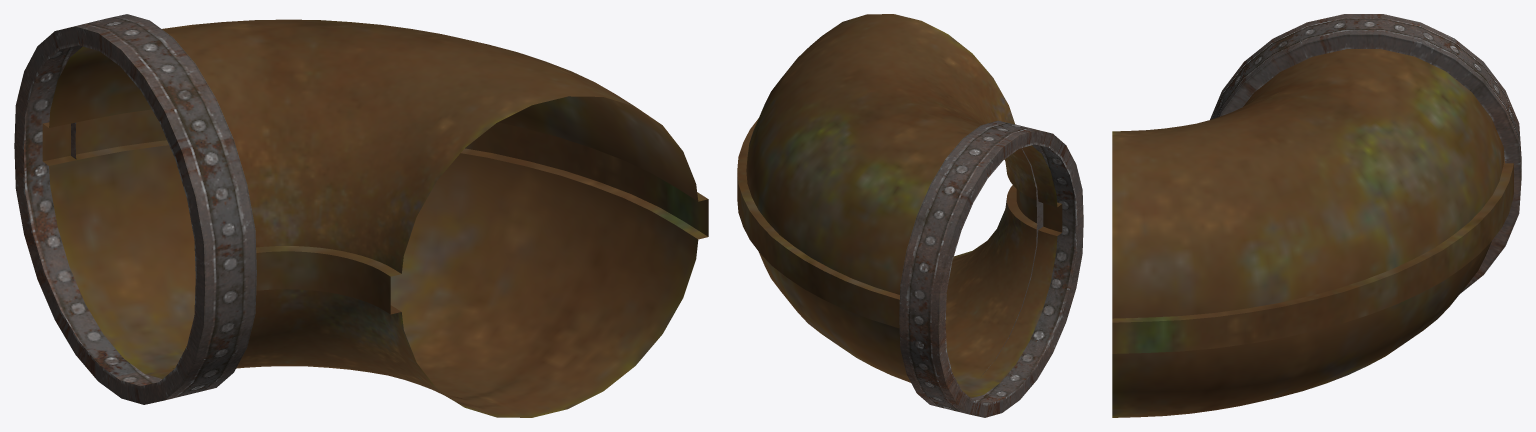
File: pipe_corner_02.fbx
3 views of the same model, side by side, from view 1: azimuth 30°, elevation 25°; view 2: azimuth 150°, elevation 25°; view 3: azimuth 270°, elevation 25° (orthographic). The views are drawn at different scales.
Parts seen in each view (by area): view 1: pipe_corner_02; view 2: pipe_corner_02; view 3: pipe_corner_02.
Part boxes in pixels (bbox=[...]): pipe_corner_02: bbox=[14, 14, 708, 417]; pipe_corner_02: bbox=[737, 14, 1083, 417]; pipe_corner_02: bbox=[1112, 14, 1521, 417].
Size of the model in its own units: 170 by 126 by 163.
